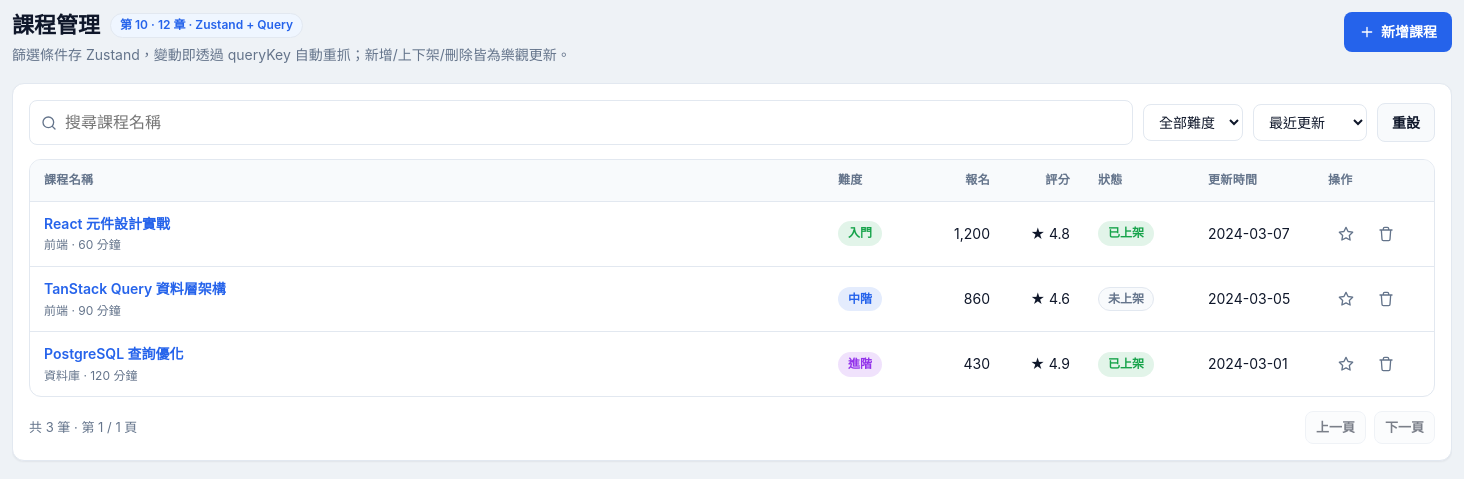
Test case: CourseListPage › 切換上架狀態會樂觀更新徽章文字
The width and height of the screenshot is (1464, 479).
Click the button "未上架": (1126, 299) [1098,287,1154,311]
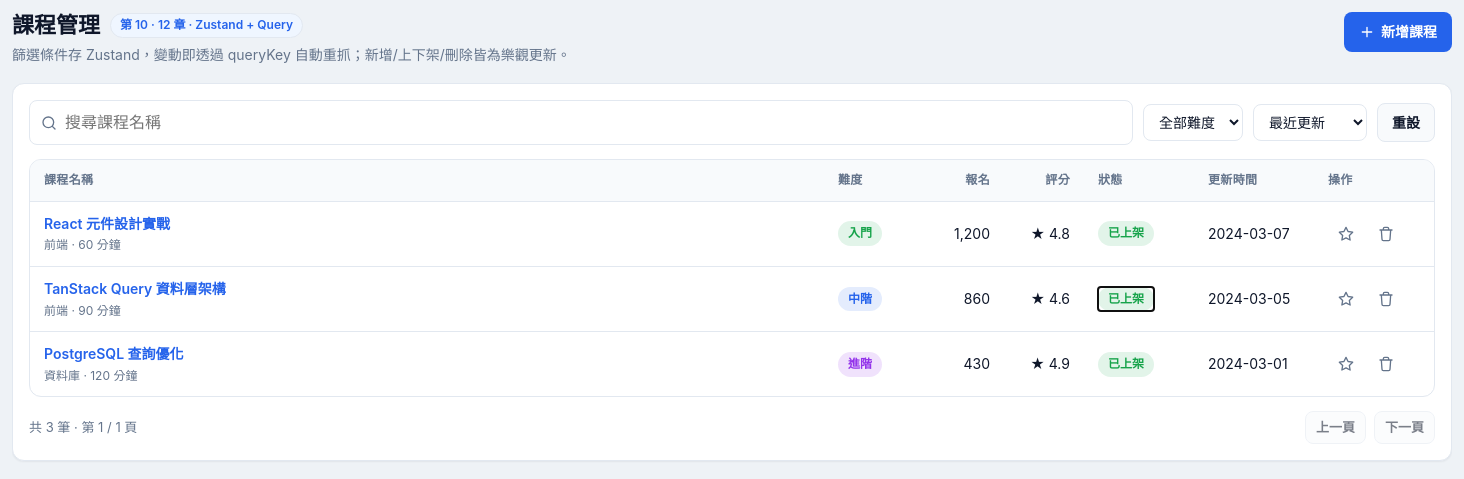
Result: the text "已上架" in the row of "TanStack Query 資料層架構" is shown at [1108,291,1144,306]
